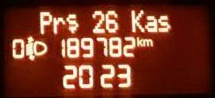0: (77, 64, 93, 88), (10, 37, 24, 58)
1: (60, 37, 65, 57)
2: (61, 64, 77, 88), (99, 63, 114, 88), (91, 10, 104, 33), (122, 36, 135, 57)
3: (116, 63, 131, 87)
6: (104, 9, 118, 32)
7: (95, 36, 107, 56)
8: (66, 36, 79, 58), (108, 36, 121, 57)
9: (79, 37, 93, 57)
X: (130, 9, 144, 32), (38, 11, 51, 34), (65, 13, 79, 33), (143, 14, 157, 32), (157, 15, 170, 32), (52, 16, 64, 34), (143, 38, 153, 46), (135, 36, 142, 47)
